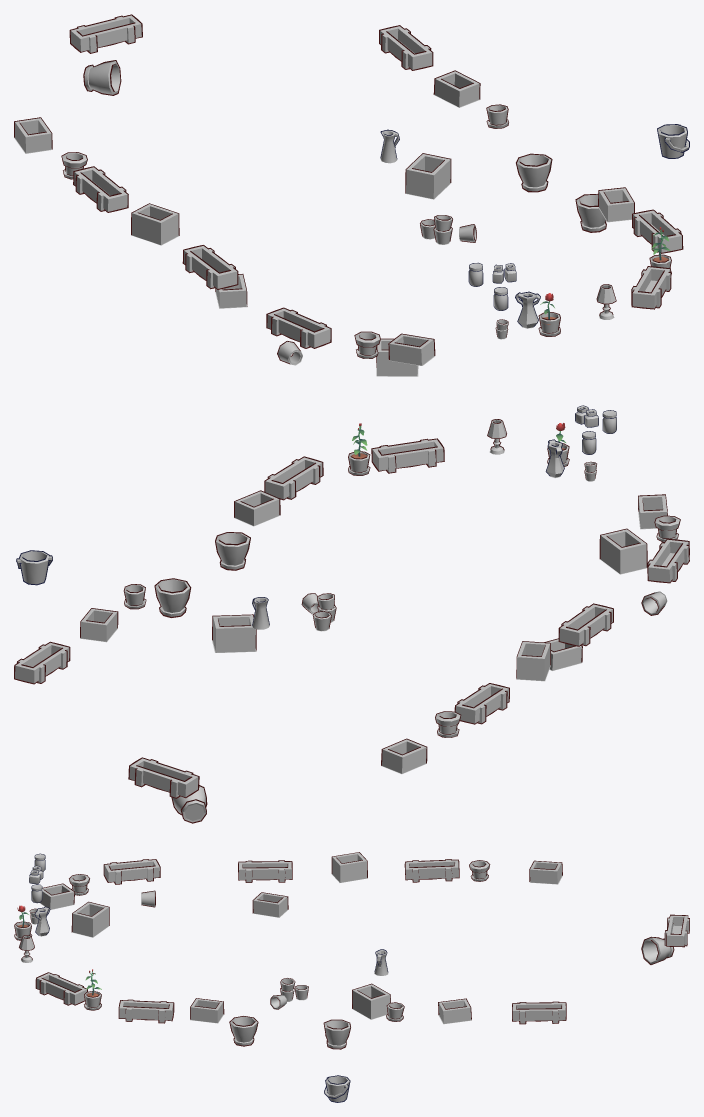
The model's file is CPhysical.gltf.
The picture shows the model from 3 angles, top to bottom: view 1: azimuth 30°, elevation 25°; view 2: azimuth 150°, elevation 25°; view 3: azimuth 270°, elevation 25°; orthographic projection. The views are drawn at different scales.
Visible parts, largest first — view 1: Cube.025_TT_checker_2_0, Cube.047_TT_checker_2_0, Cube.021_TT_checker_2_0, Cube.019_TT_checker_2_0, Cube.024_TT_checker_2_0, Cube.022_TT_checker_2_0, Cube.029_TT_checker_2_0, Cube.017_TT_checker_2_0, Cube.034_TT_checker_2_0, Cube.016_TT_checker_2_0, Cube.018_TT_checker_2_0, Cube.027_TT_checker_2_0 (+8 smaller); view 2: Cube.014_TT_checker_2_0, Cube.016_TT_checker_2_0, Cube.025_TT_checker_2_0, Cube.047_TT_checker_2_0, Cube.017_TT_checker_2_0, Cube.022_TT_checker_2_0, Cube.029_TT_checker_2_0, Cube.024_TT_checker_2_0, Cube.019_TT_checker_2_0, Cube.021_TT_checker_2_0, Cube.015_TT_checker_2_0, Cube.027_TT_checker_2_0 (+7 smaller); view 3: Cube.014_TT_checker_2_0, Cube.047_TT_checker_2_0, Cube.019_TT_checker_2_0, Cube.017_TT_checker_2_0, Cube.029_TT_checker_2_0, Cube.024_TT_checker_2_0, Cube.022_TT_checker_2_0, Cube.016_TT_checker_2_0, Cube.021_TT_checker_2_0, Cube.020_TT_checker_2_0, Cube.015_TT_checker_2_0, Cube.034_TT_checker_2_0 (+7 smaller).
Part boxes in pixels (x1=…): Cube.025_TT_checker_2_0: x1=70, y1=15, x2=141, y2=52; Cube.047_TT_checker_2_0: x1=405, y1=154, x2=450, y2=199; Cube.021_TT_checker_2_0: x1=131, y1=204, x2=178, y2=245; Cube.019_TT_checker_2_0: x1=267, y1=308, x2=330, y2=347; Cube.024_TT_checker_2_0: x1=74, y1=167, x2=127, y2=211; Cube.022_TT_checker_2_0: x1=184, y1=246, x2=237, y2=288; Cube.029_TT_checker_2_0: x1=380, y1=26, x2=432, y2=69; Cube.017_TT_checker_2_0: x1=633, y1=210, x2=681, y2=252; Cube.034_TT_checker_2_0: x1=434, y1=71, x2=479, y2=107; Cube.016_TT_checker_2_0: x1=632, y1=267, x2=670, y2=308; Cube.018_TT_checker_2_0: x1=389, y1=334, x2=434, y2=365; Cube.027_TT_checker_2_0: x1=14, y1=118, x2=52, y2=153; Cube.014_TT_checker_2_0: x1=600, y1=529, x2=646, y2=574; Cube.016_TT_checker_2_0: x1=372, y1=439, x2=443, y2=472; Cube.025_TT_checker_2_0: x1=129, y1=758, x2=198, y2=797; Cube.047_TT_checker_2_0: x1=212, y1=615, x2=256, y2=652; Cube.017_TT_checker_2_0: x1=265, y1=457, x2=322, y2=499; Cube.022_TT_checker_2_0: x1=559, y1=604, x2=612, y2=645; Cube.029_TT_checker_2_0: x1=15, y1=642, x2=69, y2=683; Cube.024_TT_checker_2_0: x1=455, y1=684, x2=508, y2=723; Cube.019_TT_checker_2_0: x1=648, y1=539, x2=688, y2=582; Cube.021_TT_checker_2_0: x1=516, y1=641, x2=550, y2=681; Cube.015_TT_checker_2_0: x1=234, y1=491, x2=280, y2=526; Cube.027_TT_checker_2_0: x1=381, y1=739, x2=426, y2=774; Cube.014_TT_checker_2_0: x1=72, y1=902, x2=108, y2=937; Cube.047_TT_checker_2_0: x1=352, y1=984, x2=390, y2=1019; Cube.019_TT_checker_2_0: x1=104, y1=859, x2=159, y2=883; Cube.017_TT_checker_2_0: x1=119, y1=1000, x2=173, y2=1022; Cube.029_TT_checker_2_0: x1=512, y1=1002, x2=565, y2=1023; Cube.024_TT_checker_2_0: x1=405, y1=859, x2=458, y2=881; Cube.022_TT_checker_2_0: x1=239, y1=861, x2=291, y2=882; Cube.016_TT_checker_2_0: x1=36, y1=973, x2=86, y2=1004; Cube.021_TT_checker_2_0: x1=331, y1=852, x2=367, y2=882; Cube.020_TT_checker_2_0: x1=253, y1=893, x2=287, y2=917; Cube.015_TT_checker_2_0: x1=190, y1=998, x2=223, y2=1023; Cube.034_TT_checker_2_0: x1=438, y1=999, x2=471, y2=1024.
Bounding box in the file's own units: 11.46 × 2.49 × 15.87.
